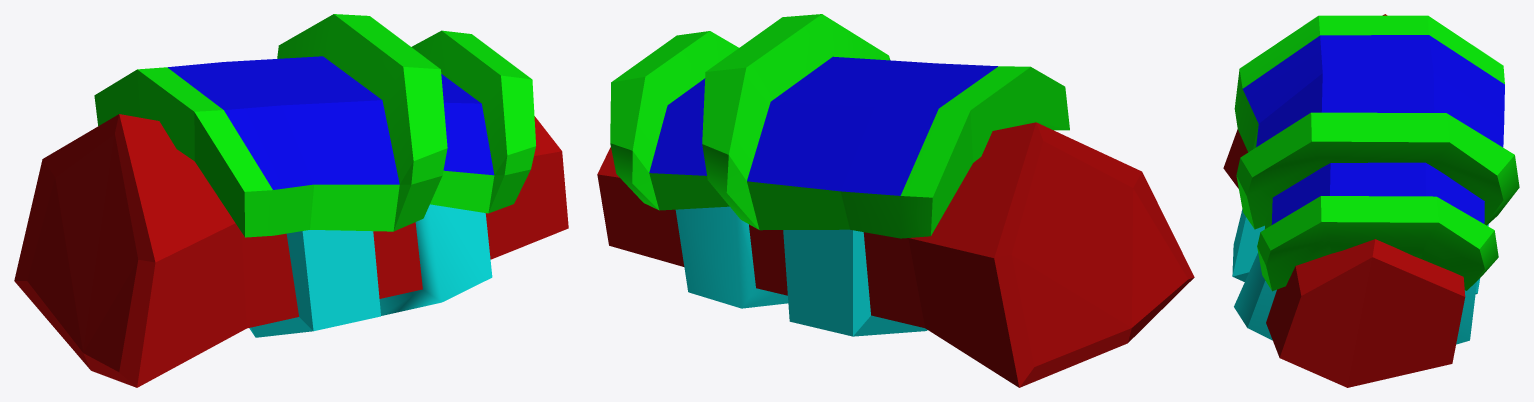
Rendered from Chr_ArmUpperLeft_Male_Static_04.fbx.
The picture shows the model from 3 angles, left to right: view 1: azimuth 30°, elevation 25°; view 2: azimuth 150°, elevation 25°; view 3: azimuth 270°, elevation 25°; orthographic projection. The views are drawn at different scales.
Visible parts, largest first — view 1: Chr_ArmUpperLeft_Male_04; view 2: Chr_ArmUpperLeft_Male_04; view 3: Chr_ArmUpperLeft_Male_04.
Part boxes in pixels (x1,y1,x2,y2): Chr_ArmUpperLeft_Male_04: (14, 14, 568, 387); Chr_ArmUpperLeft_Male_04: (597, 14, 1194, 387); Chr_ArmUpperLeft_Male_04: (1223, 14, 1519, 387).
Size of the model in its own units: 32.44 by 17.32 by 18.56.
